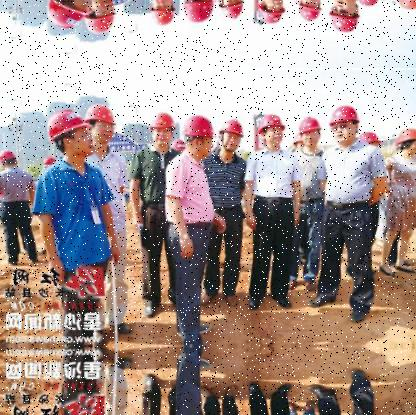helmet: (48, 106, 94, 160), (86, 101, 120, 148), (184, 111, 218, 158), (329, 102, 363, 145), (47, 0, 94, 31), (85, 0, 120, 36), (328, 0, 363, 35), (150, 109, 177, 150), (219, 116, 246, 155), (263, 109, 287, 147), (183, 0, 218, 26), (300, 114, 324, 148), (393, 123, 416, 158), (150, 0, 178, 28), (262, 0, 287, 28), (357, 128, 382, 153), (219, 0, 247, 21), (299, 0, 324, 23), (2, 147, 21, 171), (393, 0, 416, 14), (357, 0, 383, 9)
